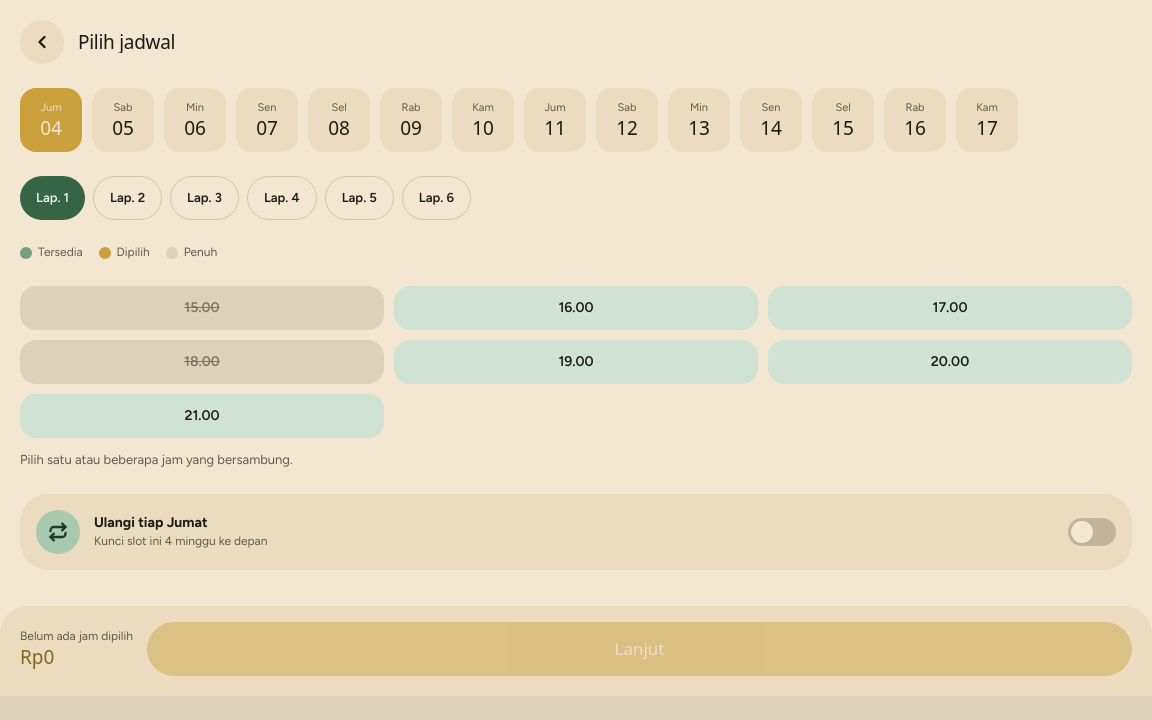
Scenario: ScheduleScreen — aturan pilih slot › menerima jam yang bersambung
The width and height of the screenshot is (1152, 720).
Click the button "19.00": (576,362) [394, 340, 758, 384]
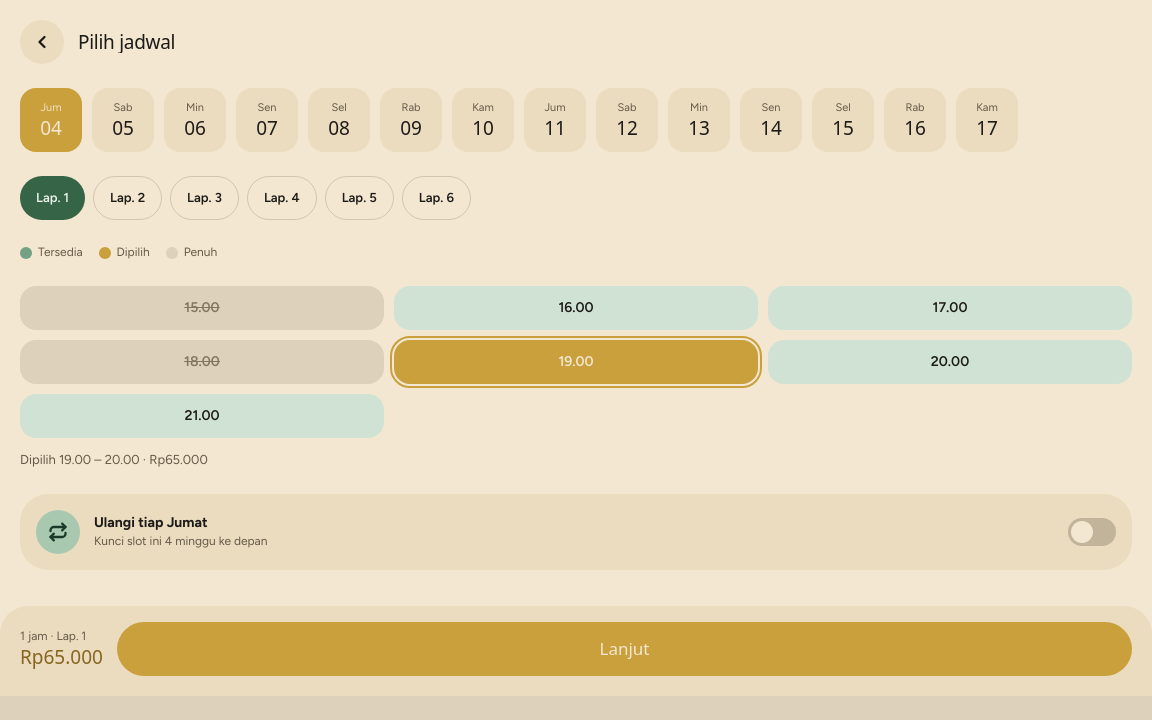
Click the button "20.00": (950,362) [768, 340, 1132, 384]
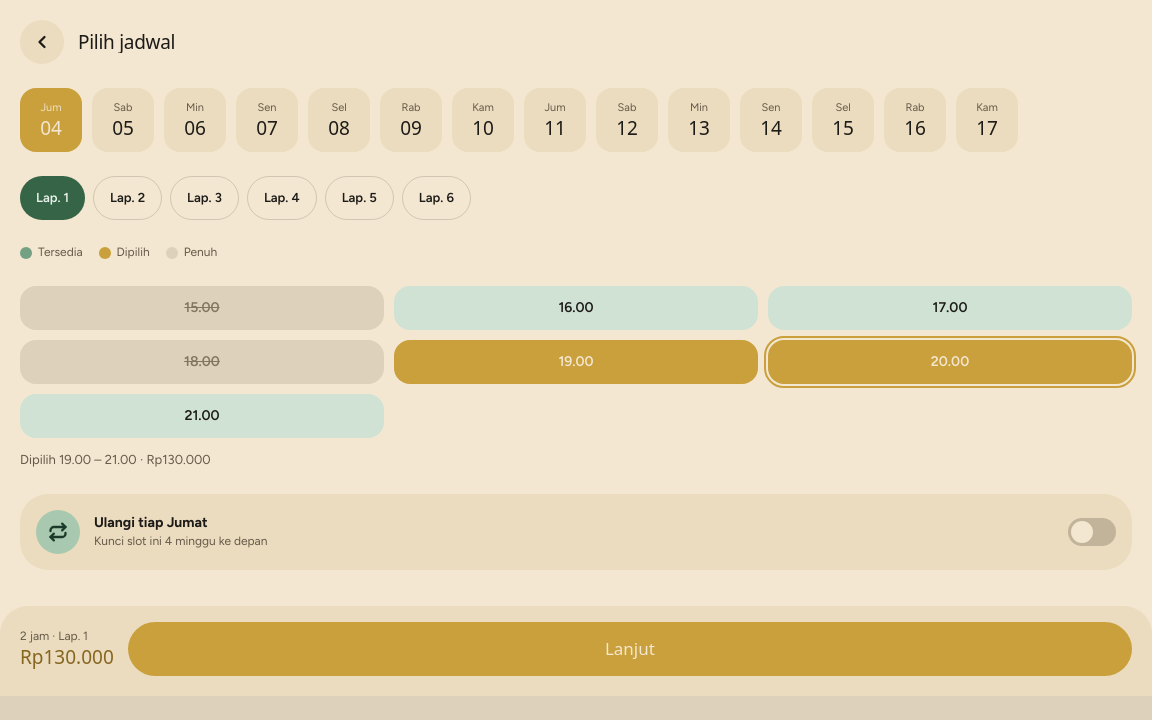
Expected: the text "Dipilih 19.00 – 21.00 · Rp130.000" is shown, [20, 452, 211, 467]
